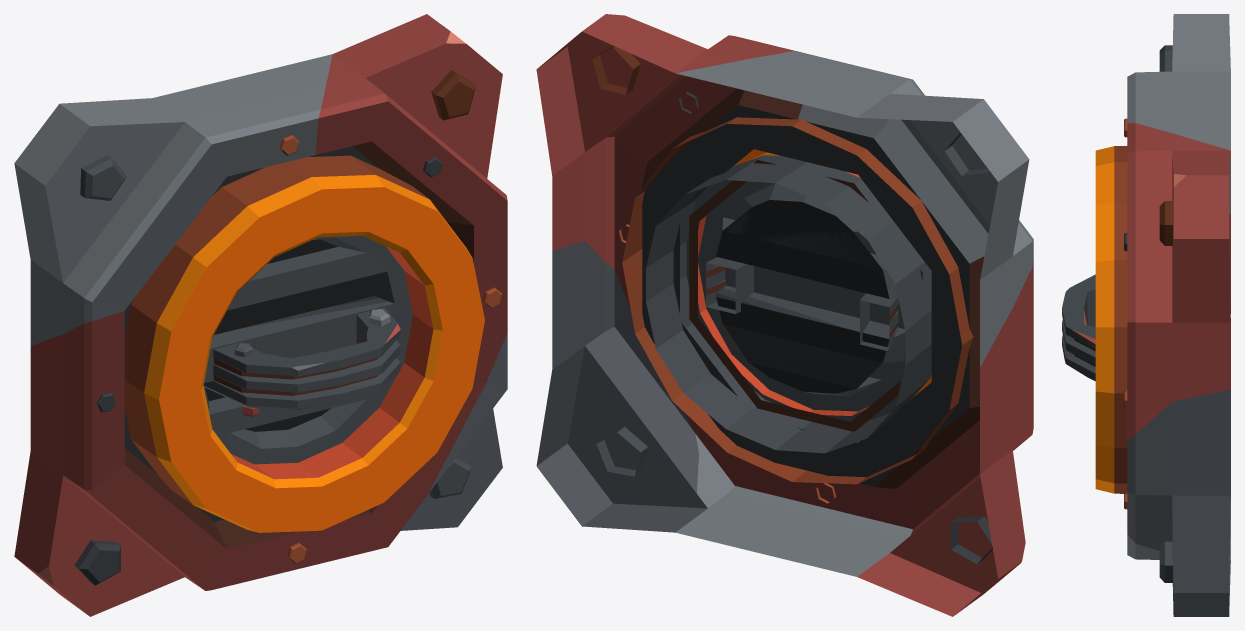
File: EA_SP_RotatingBase_01a.glb
3 renders of one model, left to right at view 1: azimuth 30°, elevation 25°; view 2: azimuth 150°, elevation 25°; view 3: azimuth 270°, elevation 25°, orthographic. The views are drawn at different scales.
Visible parts, largest first — view 1: EA_SP_RotatingBase_01a, EA_SP_Mesh_Button_Base.003, EA_SP_Mesh_Button_Base.002, EA_SP_GrabHandle_01a; view 2: EA_SP_RotatingBase_01a, EA_SP_Mesh_Button_Base.002, EA_SP_GrabHandle_01a; view 3: EA_SP_RotatingBase_01a, EA_SP_Mesh_Button_Base.002, EA_SP_GrabHandle_01a.
Part boxes in pixels (<box>): EA_SP_RotatingBase_01a: <box>14,14,507,616</box>; EA_SP_Mesh_Button_Base.003: <box>159,187,484,532</box>; EA_SP_Mesh_Button_Base.002: <box>124,155,471,532</box>; EA_SP_GrabHandle_01a: <box>203,307,400,416</box>; EA_SP_RotatingBase_01a: <box>536,14,1033,616</box>; EA_SP_Mesh_Button_Base.002: <box>622,117,973,484</box>; EA_SP_GrabHandle_01a: <box>706,257,898,350</box>; EA_SP_RotatingBase_01a: <box>1124,14,1230,616</box>; EA_SP_Mesh_Button_Base.002: <box>1095,146,1127,493</box>; EA_SP_GrabHandle_01a: <box>1062,274,1095,381</box>.
Bounding box in the file's own units: 1.04 × 1.06 × 0.3678.
Materials: 1 (1 with a texture image).
